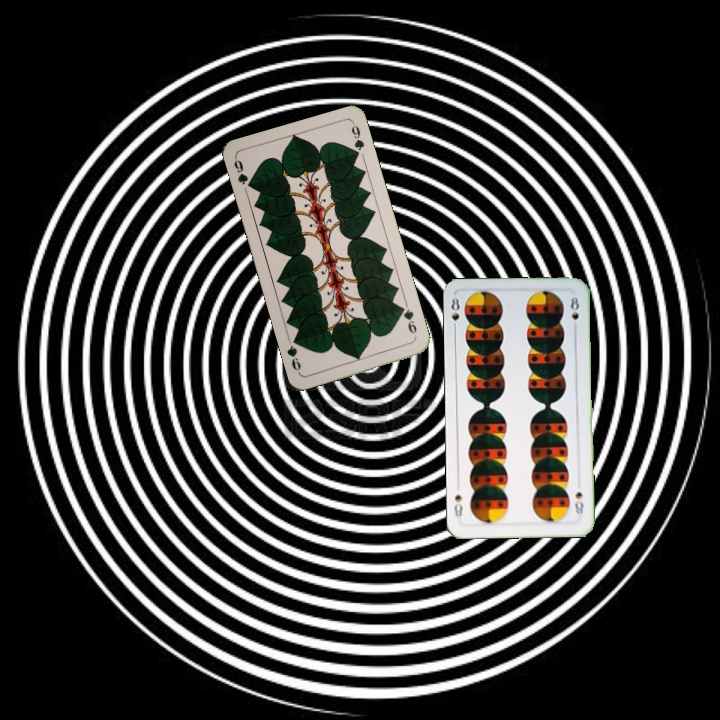G9: (230, 154, 256, 191), (396, 302, 419, 341)
S8: (447, 293, 462, 334), (571, 488, 586, 521)
